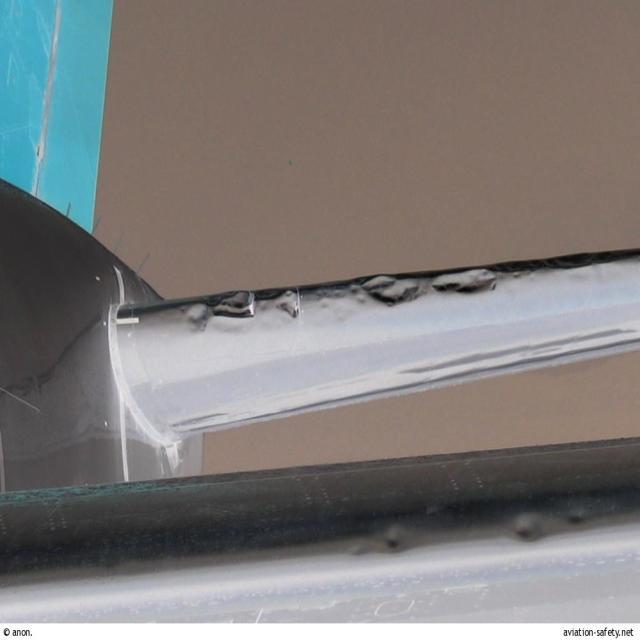dent: (180, 264, 503, 336), (502, 506, 588, 542), (384, 528, 409, 551)
